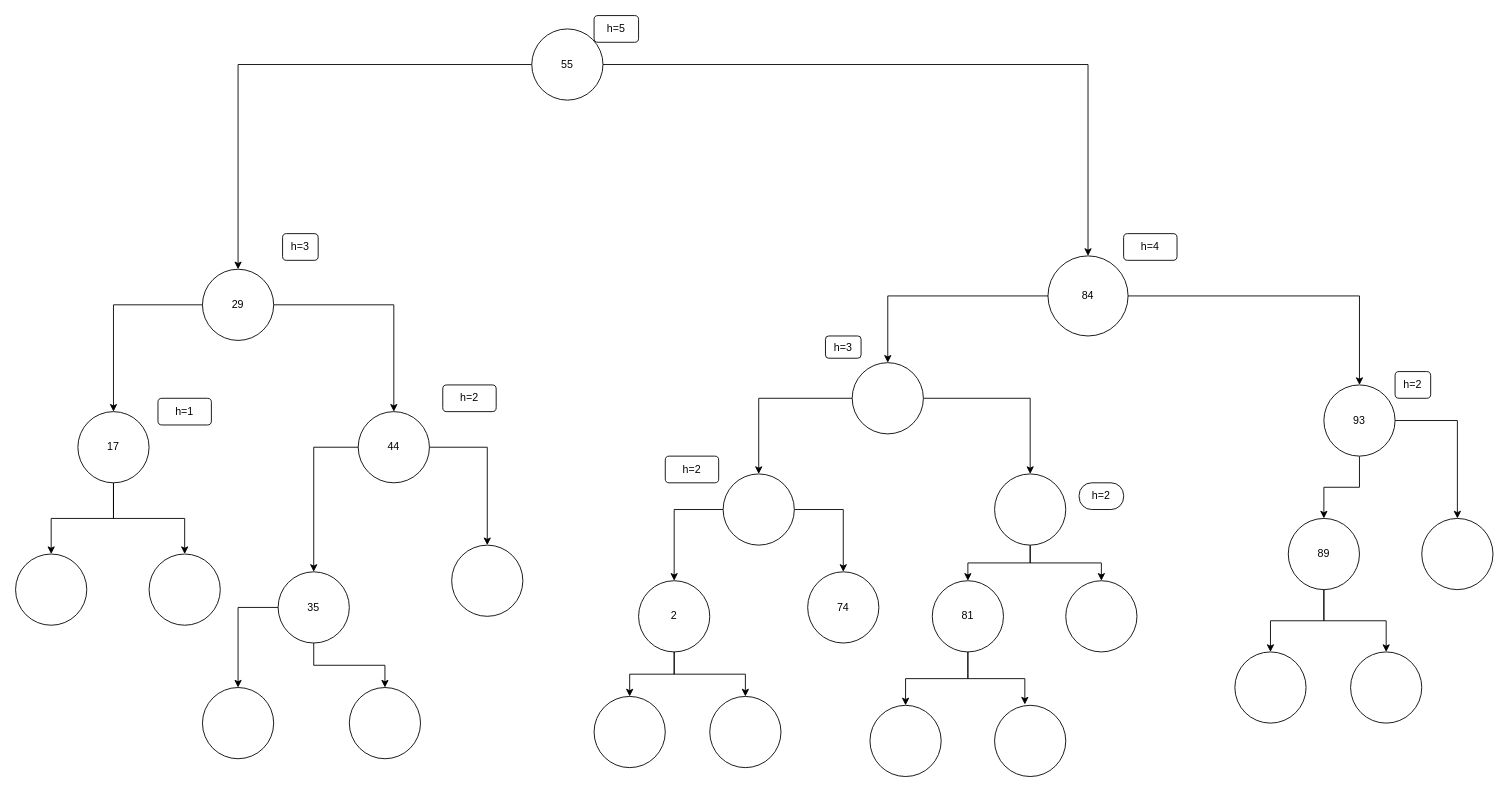
Some shapes in this 1509 by 792 pixel diagram are drawn without their labels. Here are the shapes that lost their labels. From the top down, the box of each, then its label:
(851, 362, 923, 434): 75 b=x
(722, 473, 794, 545): 62 a=z
(994, 473, 1066, 545): 82 c=y
